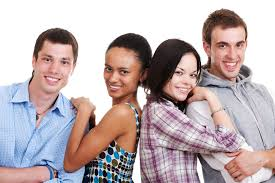person: (202, 9, 248, 79), (32, 27, 78, 94), (103, 33, 149, 99), (154, 39, 199, 102)
